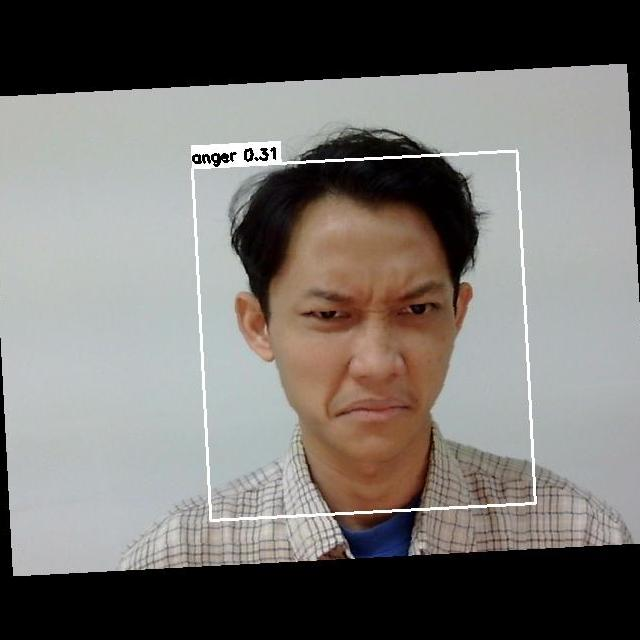Disgust: (269, 241, 466, 442)
